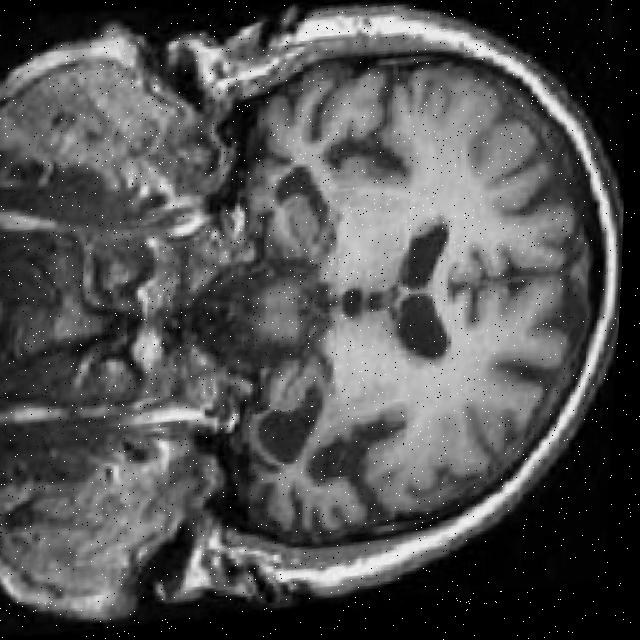NoTumor: (169, 0, 639, 601)
